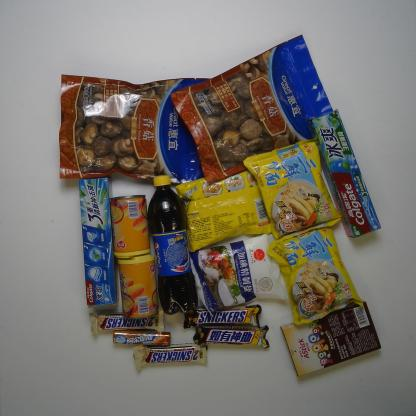Candy: (110, 328, 174, 348)
Canned Food: (116, 252, 160, 320), (107, 194, 152, 260)
Chocolate: (131, 342, 208, 373), (192, 322, 274, 351), (88, 308, 166, 337), (181, 303, 263, 330)
Dessert: (278, 298, 384, 378)
Dried Food: (168, 32, 338, 185), (56, 70, 214, 186)
Drink: (146, 171, 200, 317)
Instant Noodles: (242, 135, 342, 246), (265, 223, 365, 327), (173, 165, 274, 253)
Personal Hygiene: (306, 106, 383, 241), (75, 174, 122, 310)
Seasoner: (186, 232, 289, 314)
